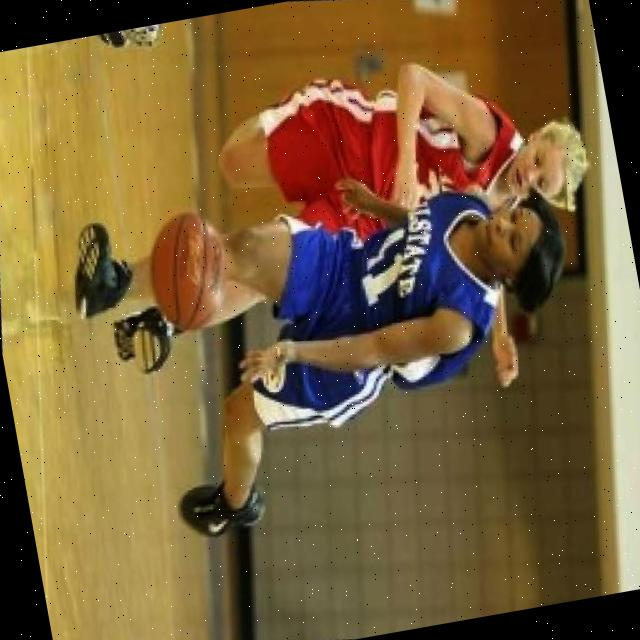ball: (126, 195, 252, 348)
